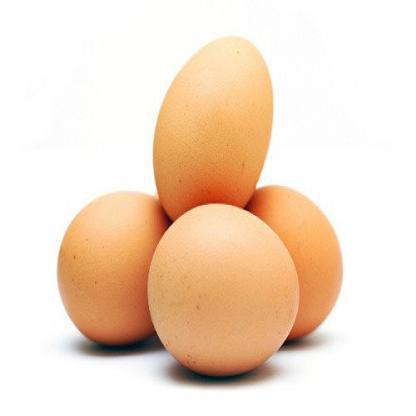egg: (136, 188, 310, 388), (149, 32, 287, 230), (224, 176, 348, 337), (59, 181, 175, 346)
